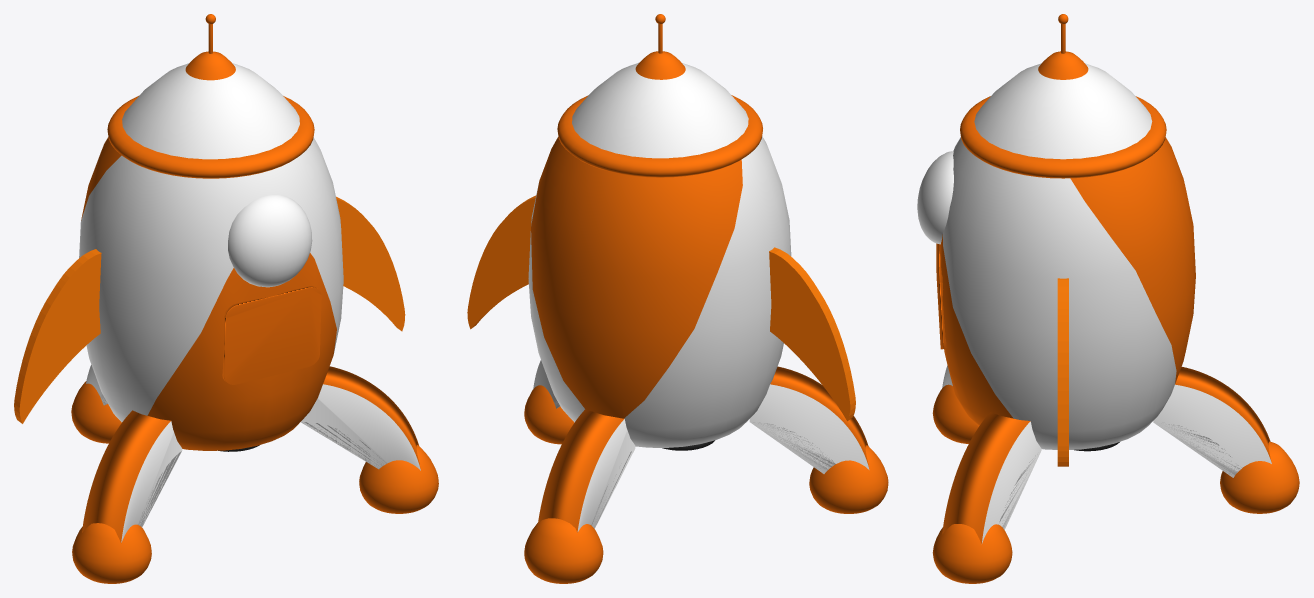
File: Fusée.fbx
3 views of the same model, side by side, from view 1: azimuth 30°, elevation 25°; view 2: azimuth 150°, elevation 25°; view 3: azimuth 270°, elevation 25° (orthographic).
Parts seen in each view (by area): view 1: Coque, Plaque, Jambe2, Aileron1, Jambe1, Vitre, Tore, Aileron2, Pied3, Pied1, Pied2, Haut; view 2: Coque, Jambe3, Aileron1, Jambe2, Tore, Aileron2, Pied2, Pied3, Pied1, Haut; view 3: Coque, Jambe1, Jambe3, Tore, Pied1, Pied2, Vitre, Aileron2, Pied3, Haut, Plaque.
Part boxes in pixels (x1=…): Coque: x1=79, y1=63, x2=343, y2=450; Plaque: x1=222, y1=286, x2=321, y2=384; Jambe2: x1=82, y1=410, x2=182, y2=543; Aileron1: x1=14, y1=249, x2=101, y2=423; Jambe1: x1=300, y1=366, x2=420, y2=470; Vitre: x1=228, y1=195, x2=312, y2=287; Tore: x1=107, y1=95, x2=314, y2=178; Aileron2: x1=336, y1=196, x2=405, y2=331; Pied3: x1=72, y1=523, x2=151, y2=583; Pied1: x1=359, y1=445, x2=438, y2=513; Pied2: x1=71, y1=381, x2=121, y2=443; Haut: x1=185, y1=51, x2=235, y2=80; Coque: x1=528, y1=62, x2=791, y2=447; Jambe3: x1=538, y1=409, x2=635, y2=532; Aileron1: x1=769, y1=247, x2=855, y2=421; Jambe2: x1=749, y1=366, x2=869, y2=473; Tore: x1=557, y1=95, x2=762, y2=177; Aileron2: x1=467, y1=195, x2=536, y2=329; Pied2: x1=524, y1=518, x2=603, y2=583; Pied3: x1=809, y1=445, x2=888, y2=513; Pied1: x1=524, y1=385, x2=574, y2=444; Haut: x1=635, y1=51, x2=685, y2=79; Coque: x1=939, y1=63, x2=1195, y2=449; Jambe1: x1=942, y1=412, x2=1041, y2=544; Jambe3: x1=1153, y1=367, x2=1271, y2=477; Tore: x1=960, y1=96, x2=1166, y2=178; Pied1: x1=932, y1=524, x2=1012, y2=583; Pied2: x1=1220, y1=441, x2=1299, y2=513; Vitre: x1=917, y1=151, x2=953, y2=244; Aileron2: x1=1057, y1=278, x2=1068, y2=466; Pied3: x1=932, y1=384, x2=978, y2=443; Haut: x1=1038, y1=51, x2=1088, y2=79; Plaque: x1=936, y1=243, x2=946, y2=349.
Size of the model in its own units: 940 by 1148 by 810.
